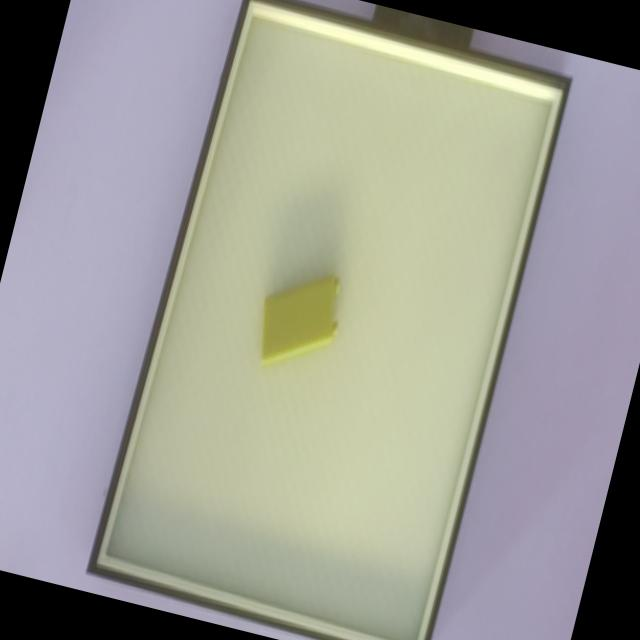bateria: (263, 273, 339, 365)
mesa: (84, 0, 572, 640)
